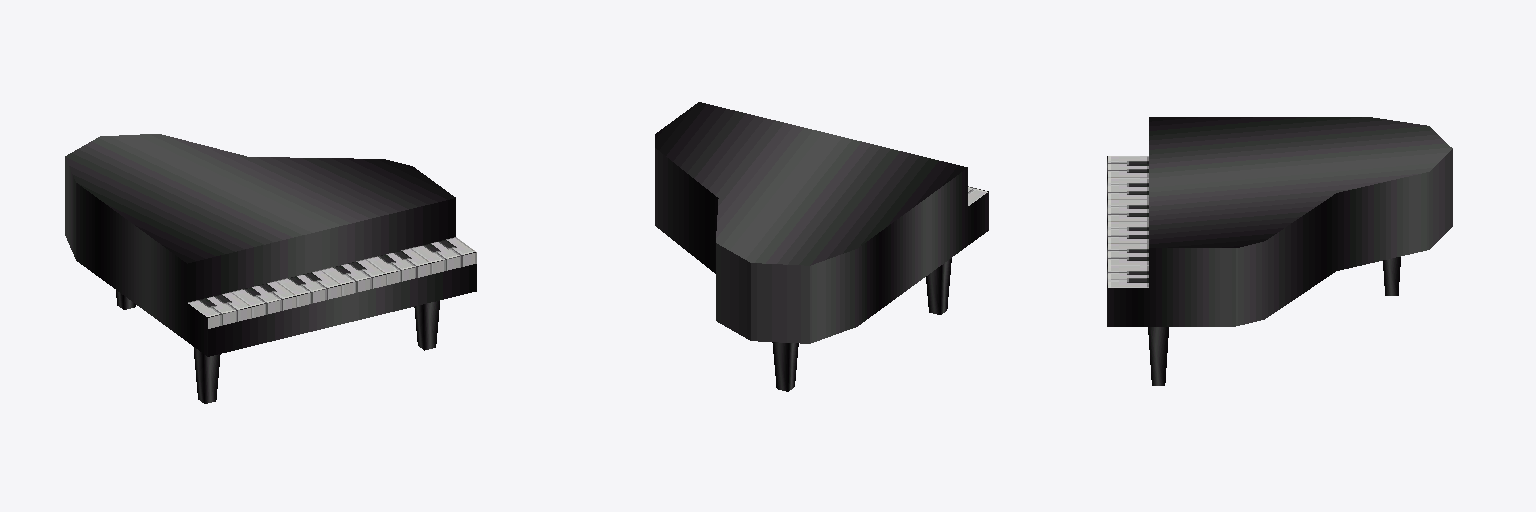
The picture shows the model from 3 angles: view 1: azimuth 30°, elevation 25°; view 2: azimuth 150°, elevation 25°; view 3: azimuth 270°, elevation 25°; orthographic projection.
Visible parts, largest first — view 1: pianoShape; view 2: pianoShape; view 3: pianoShape.
Part boxes in pixels (bbox=[...]): pianoShape: bbox=[65, 134, 476, 403]; pianoShape: bbox=[655, 102, 988, 391]; pianoShape: bbox=[1107, 117, 1452, 385].
Size of the model in its own units: 331 by 172 by 368.
Materials: 1 (1 with a texture image).